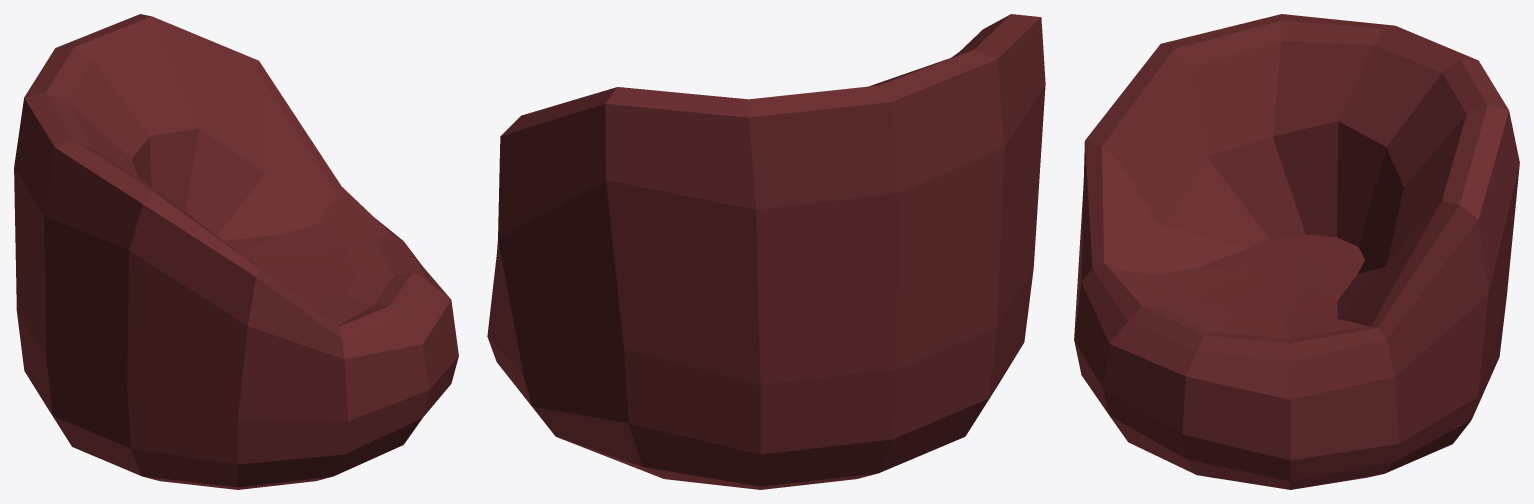
File: SaccoChairV3Red.fbx
3 renders of one model, left to right at view 1: azimuth 30°, elevation 25°; view 2: azimuth 150°, elevation 25°; view 3: azimuth 270°, elevation 25°, orthographic. The views are drawn at different scales.
Parts seen in each view (by area): view 1: SaccoChairV3Red; view 2: SaccoChairV3Red; view 3: SaccoChairV3Red.
Boxes of the visible parts, left/top/right/bottom form: SaccoChairV3Red: left=14, top=14, right=458, bottom=489; SaccoChairV3Red: left=487, top=14, right=1045, bottom=489; SaccoChairV3Red: left=1074, top=14, right=1519, bottom=489.
Size of the model in its own units: 110 by 90.61 by 112.
